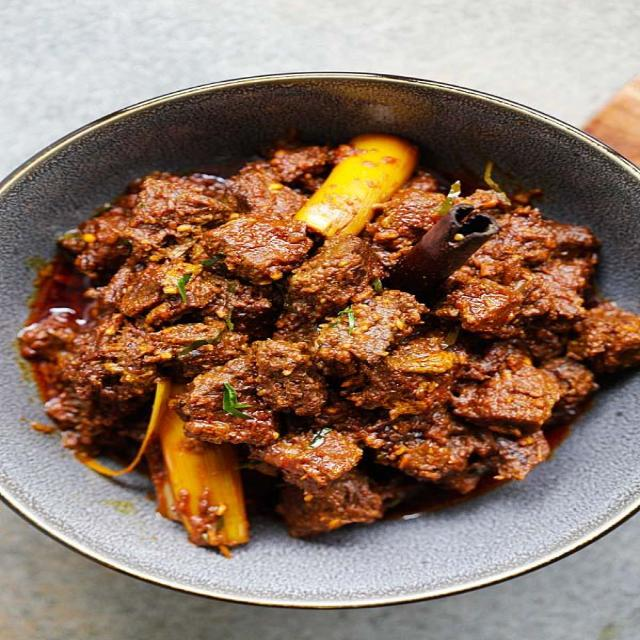Rendang: (26, 155, 640, 553)
